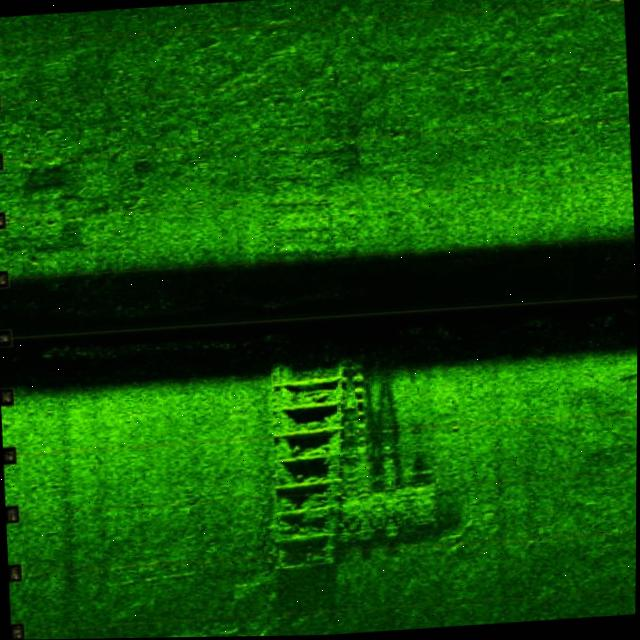shipwreck: (261, 354, 444, 576)
